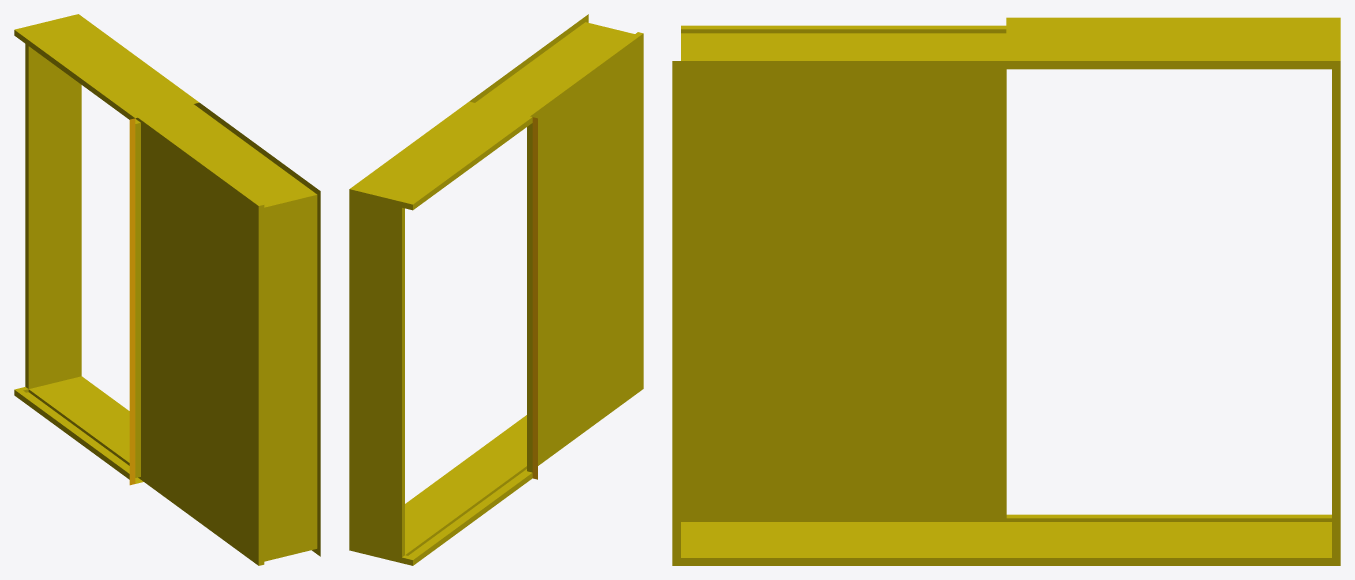
The model's file is door_manual_sliding_3x5.dae.
The picture shows the model from 3 angles, left to right: view 1: azimuth 30°, elevation 25°; view 2: azimuth 150°, elevation 25°; view 3: azimuth 270°, elevation 25°; orthographic projection. The views are drawn at different scales.
Visible parts, largest first — view 1: Cube; view 2: Cube; view 3: Cube.
Boxes of the visible parts, box(x1,y1,x2,y2) form: Cube: box(14, 14, 320, 565); Cube: box(349, 14, 643, 565); Cube: box(672, 17, 1340, 565).
Bounding box in the file's own units: 0.25 × 1.5 × 1.25.
